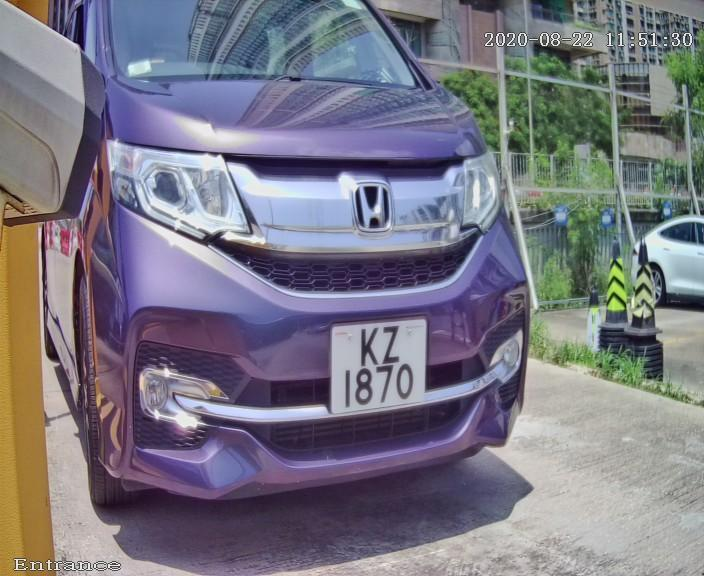License Plate: (321, 307, 434, 425)
